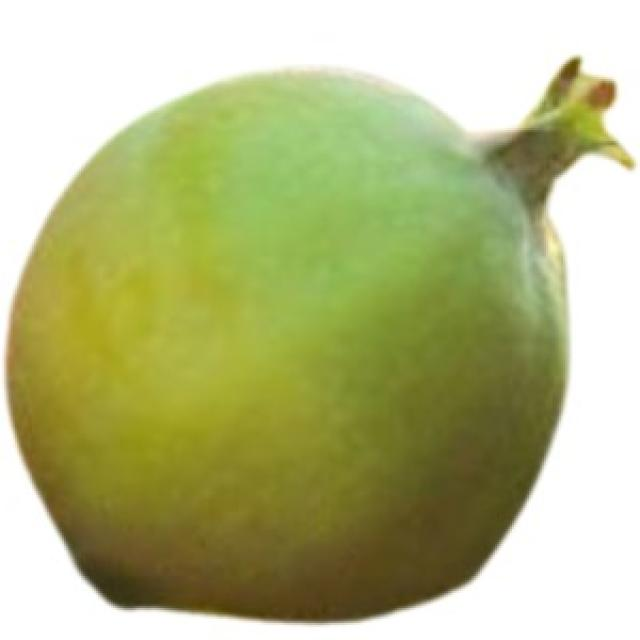50-_ripeness: (0, 51, 634, 612)
